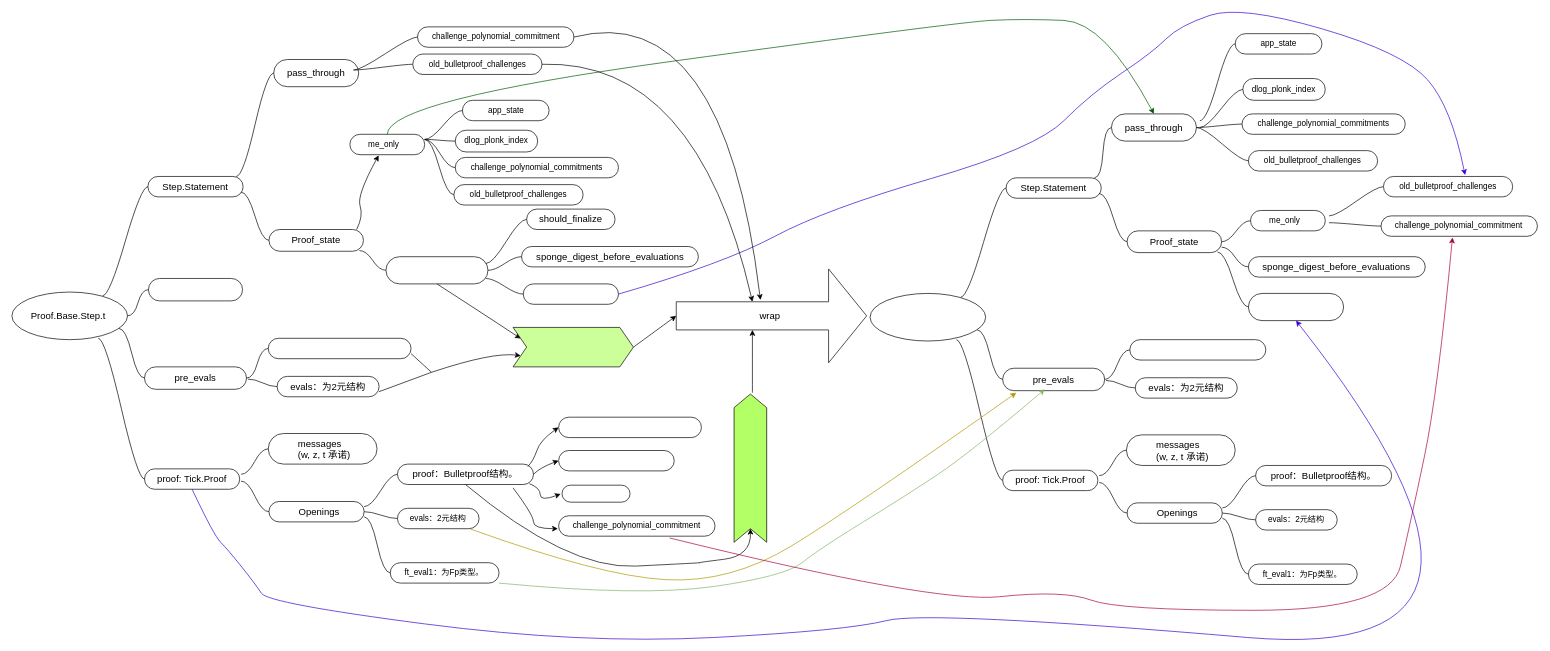
The diagram is 1550 pixels wide and 651 high, and some of its shapes have lost their labels. The centre of each missing label's shape, as x and y in pixels:
"deferred_values" goes at (x=570, y=293).
"deferred_values (step_proof)" goes at (x=1296, y=307).
"delta" goes at (x=595, y=493).
"finalize_other_proof" goes at (x=572, y=347).
"ft_eval1：为Tick.Field结构" goes at (x=1197, y=349).
"ft_eval1：为Tock.Field结构" goes at (x=339, y=348).
"incrementally_verify_proof" goes at (x=750, y=467).
"index: int" goes at (x=195, y=289).
"lr：为(G.Affine * G.Affine) array" goes at (x=629, y=427).
"Proof.Base.wrap.t" goes at (x=927, y=317).
"unfinalized_proofs (wrap_proof)" goes at (x=436, y=270).
"z_1和z_2：均为Fp类型" goes at (x=616, y=460).
